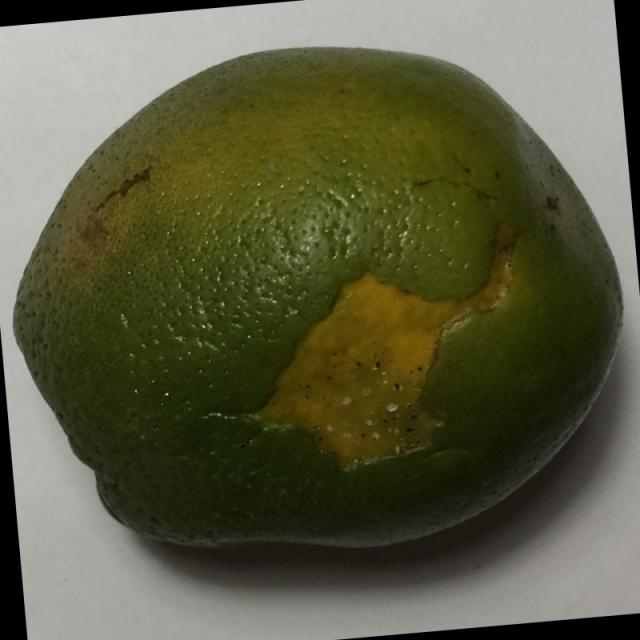canker: (16, 38, 632, 628)
